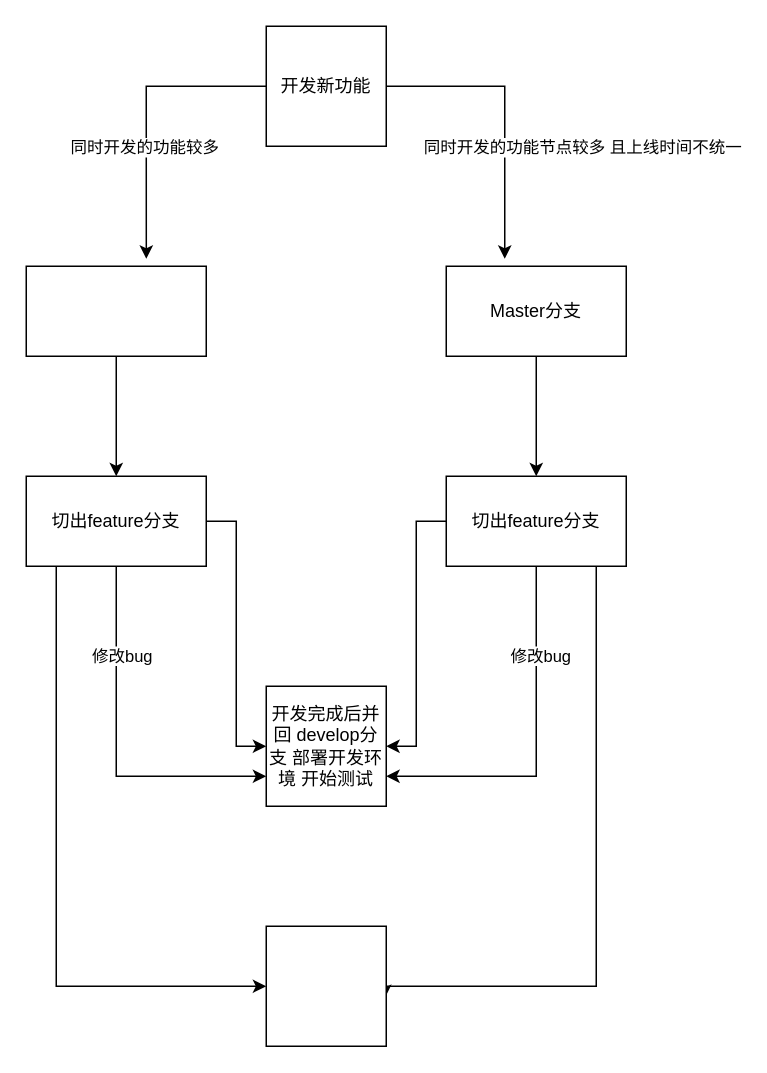
Image size: 767x1073. Some labels were removed from this diagram. Each missing label, with the centre of its shape:
"Develop分支" belongs at [115,310].
"测试通过后合到master 部署正式环境完成上线" belongs at [325,985].
